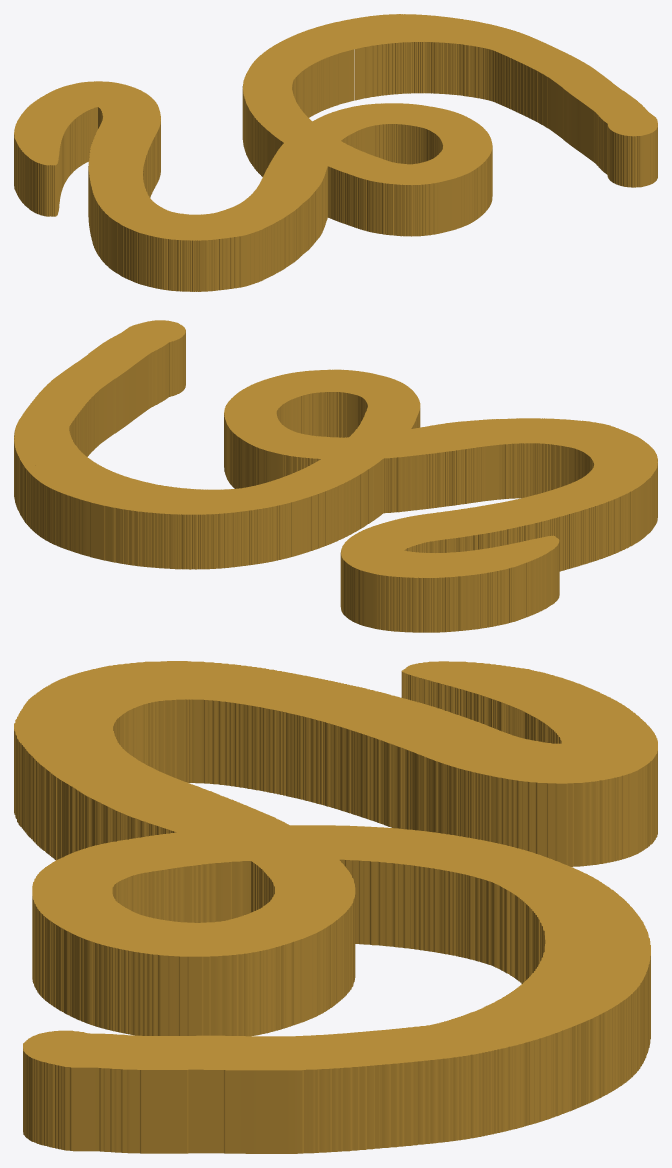
The picture shows the model from 3 angles, top to bottom: view 1: azimuth 30°, elevation 25°; view 2: azimuth 150°, elevation 25°; view 3: azimuth 270°, elevation 25°; orthographic projection. The views are drawn at different scales.
Parts seen in each view (by area): view 1: Curve.005; view 2: Curve.005; view 3: Curve.005.
Boxes of the visible parts, box(x1,y1,x2,y2) form: Curve.005: box(14, 14, 657, 291); Curve.005: box(14, 320, 657, 632); Curve.005: box(14, 661, 657, 1153).
Size of the model in its own units: 103 by 9.77 by 68.24.
